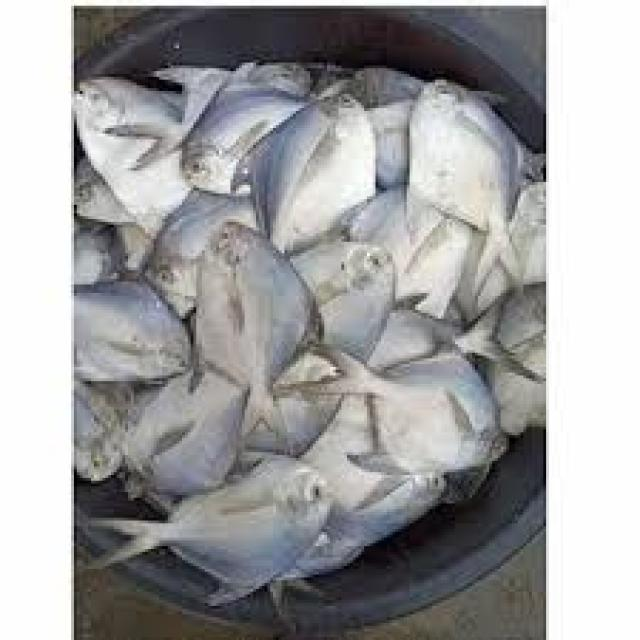pomfred: (187, 223, 321, 449)
